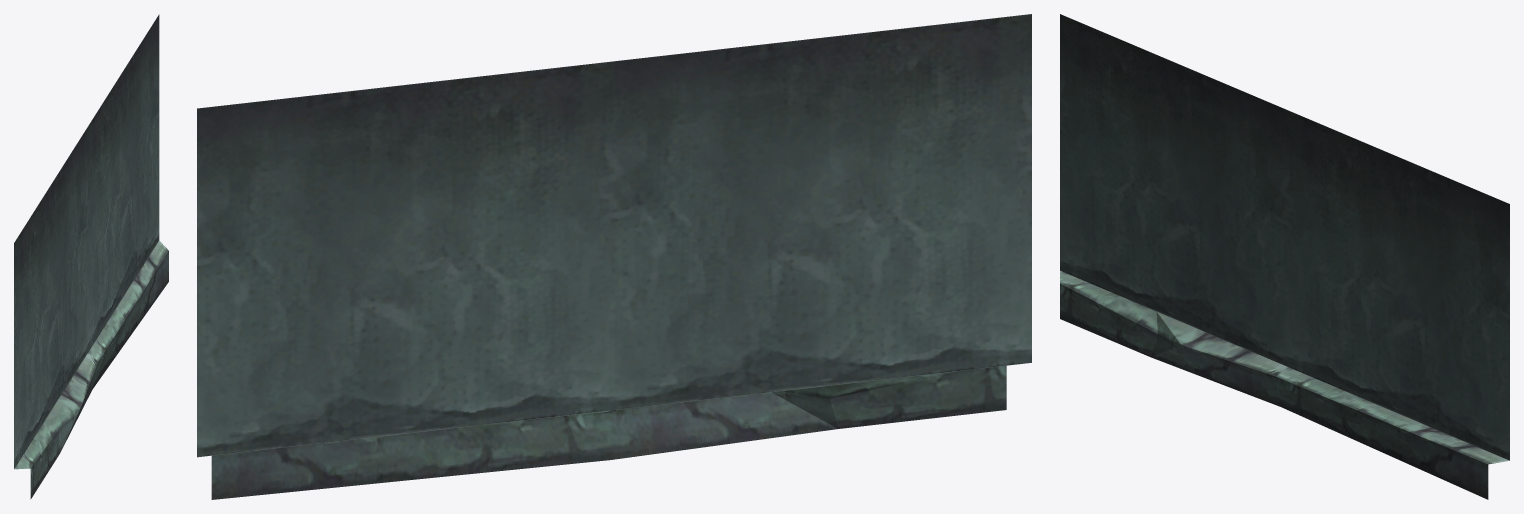
File: crypt_half_diagnol_01.fbx
3 renders of one model, left to right at view 1: azimuth 30°, elevation 25°; view 2: azimuth 150°, elevation 25°; view 3: azimuth 270°, elevation 25°, orthographic. The views are drawn at different scales.
Parts seen in each view (by area): view 1: crypt_half_diagnol_01-0; view 2: crypt_half_diagnol_01-0; view 3: crypt_half_diagnol_01-0.
Boxes of the visible parts, <box> form: crypt_half_diagnol_01-0: <box>14,14,168,499</box>; crypt_half_diagnol_01-0: <box>197,14,1031,499</box>; crypt_half_diagnol_01-0: <box>1060,14,1509,499</box>.
Size of the model in its own units: 3.79 by 2.75 by 3.79.
